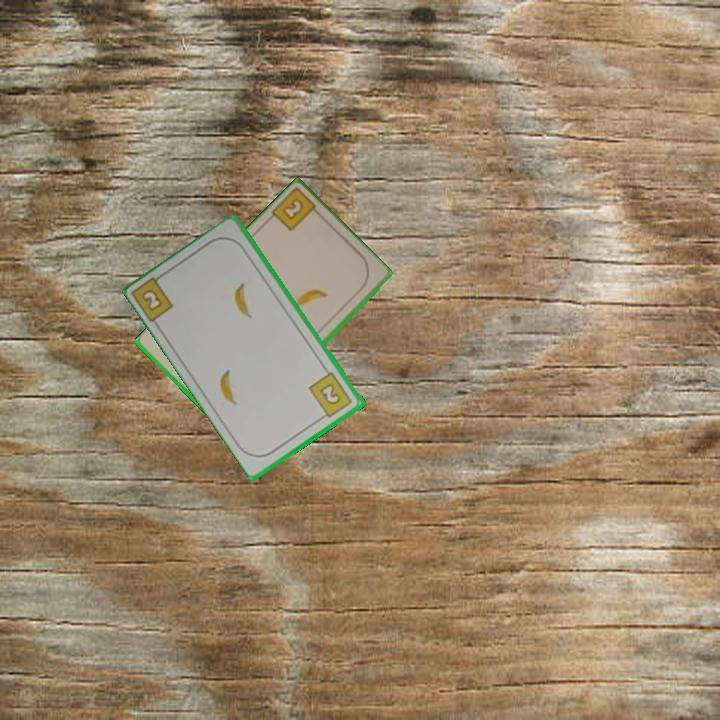2b: (268, 186, 325, 235), (306, 369, 355, 422), (138, 286, 166, 314)
